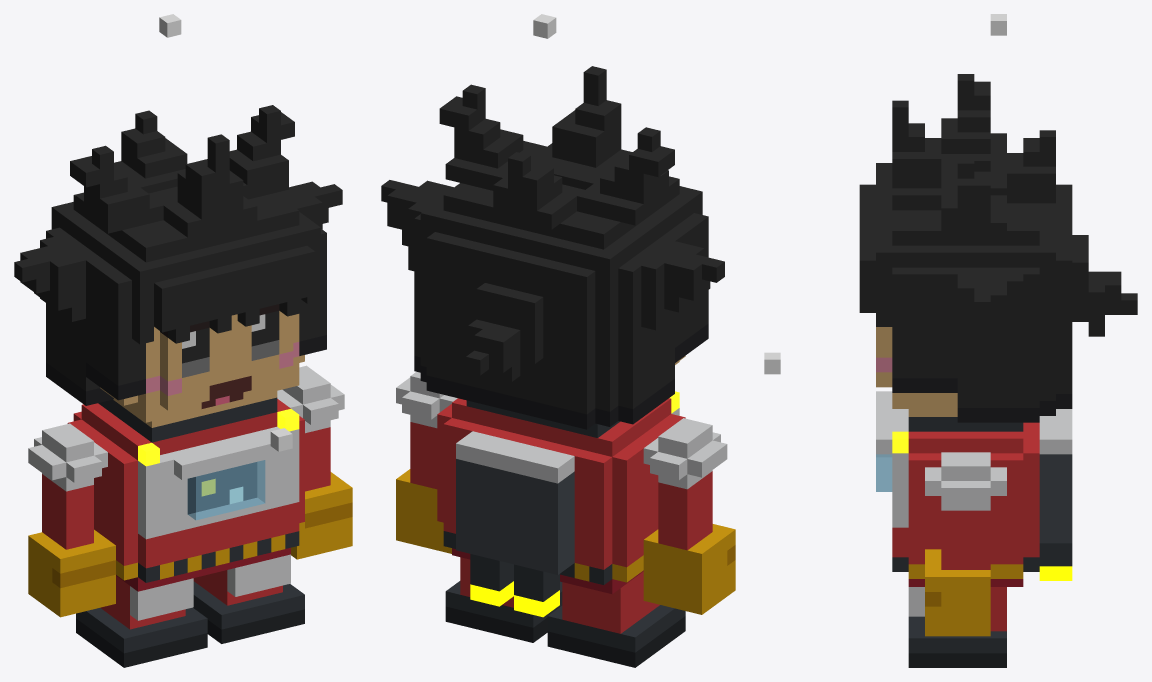
File: Char_Daichi.fbx
The picture shows the model from 3 angles, left to right: view 1: azimuth 30°, elevation 25°; view 2: azimuth 150°, elevation 25°; view 3: azimuth 270°, elevation 25°; orthographic projection. The views are drawn at different scales.
Visible parts, largest first — view 1: Head, Torso, ArmR, LegR, ArmL, LegL, Torso__Glass_8ECAE6_35, Torso__Neon_FFD60A; view 2: Head, Torso, ArmR, LegR, ArmL, LegL, Torso__Neon_FF8800; view 3: Head, Torso, ArmL, LegL, Torso__Glass_8ECAE6_35.
Boxes of the visible parts, left/top/right/bottom form: Head: left=14, top=105, right=342, bottom=427; Torso: left=67, top=397, right=304, bottom=591; ArmR: left=28, top=423, right=115, bottom=617; LegR: left=76, top=576, right=207, bottom=667; ArmL: left=277, top=365, right=352, bottom=559; LegL: left=193, top=554, right=304, bottom=643; Torso__Glass_8ECAE6_35: left=187, top=460, right=265, bottom=520; Torso__Neon_FFD60A: left=138, top=409, right=299, bottom=496; Head: left=381, top=66, right=724, bottom=429; Torso: left=437, top=398, right=685, bottom=601; ArmR: left=643, top=418, right=735, bottom=614; LegR: left=547, top=571, right=685, bottom=667; ArmL: left=396, top=371, right=457, bottom=553; LegL: left=445, top=557, right=562, bottom=642; Torso__Neon_FF8800: left=470, top=581, right=559, bottom=617; Head: left=859, top=74, right=1137, bottom=422; Torso: left=876, top=391, right=1072, bottom=586; ArmL: left=925, top=452, right=1006, bottom=636; LegL: left=908, top=587, right=1006, bottom=667; Torso__Glass_8ECAE6_35: left=876, top=454, right=892, bottom=491.
Bounding box in the file's own units: 4.31 × 7.66 × 4.28.
